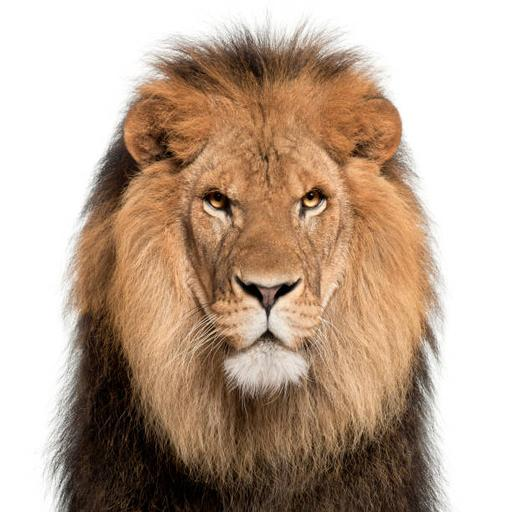Lion: (48, 17, 451, 512)
